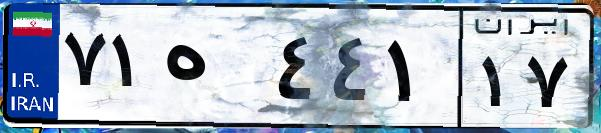1: (385, 28, 445, 110), (475, 38, 525, 113), (110, 28, 158, 98)
4: (270, 28, 330, 110), (330, 28, 385, 110)
7: (57, 26, 110, 100), (525, 38, 570, 115)
ه: (158, 20, 270, 120)
